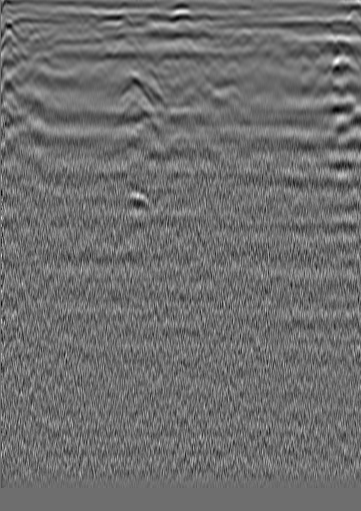가스: (118, 185, 154, 219)
상수: (305, 34, 325, 54)
오수: (22, 24, 42, 44)
우수: (180, 29, 200, 49)
